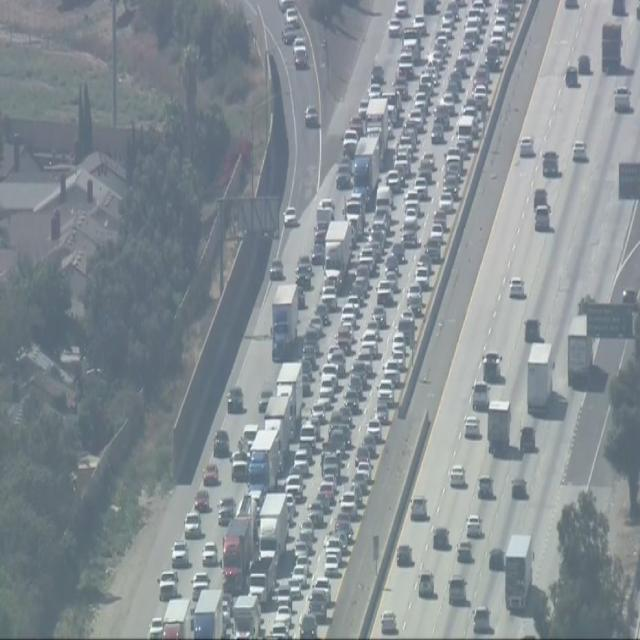traffic_incident: (282, 252, 412, 482)
